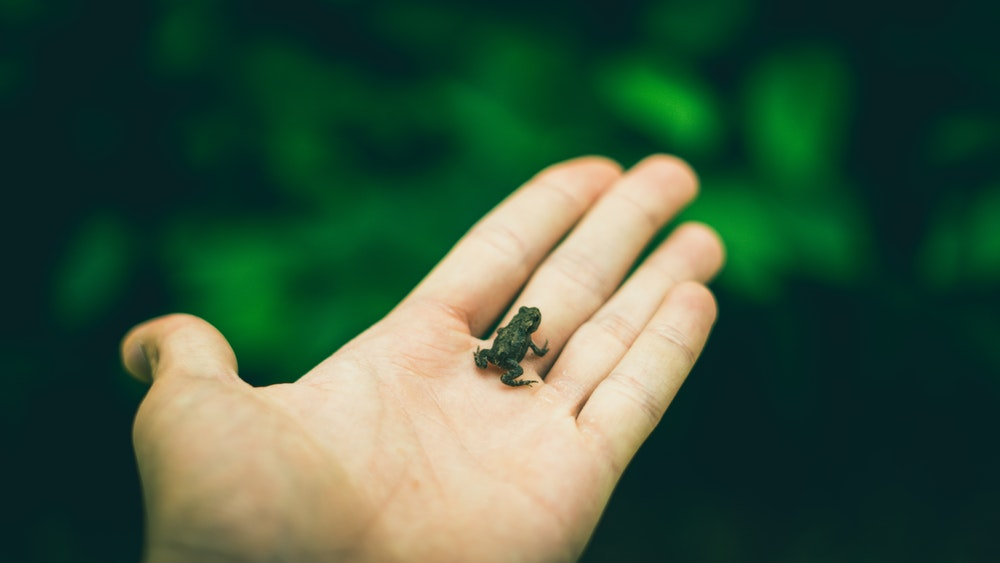palm: (265, 338, 594, 544)
